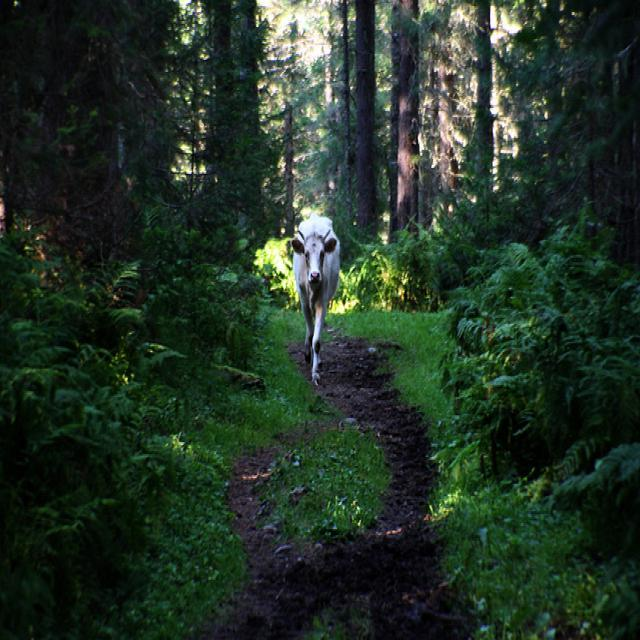cow: (290, 207, 340, 384)
